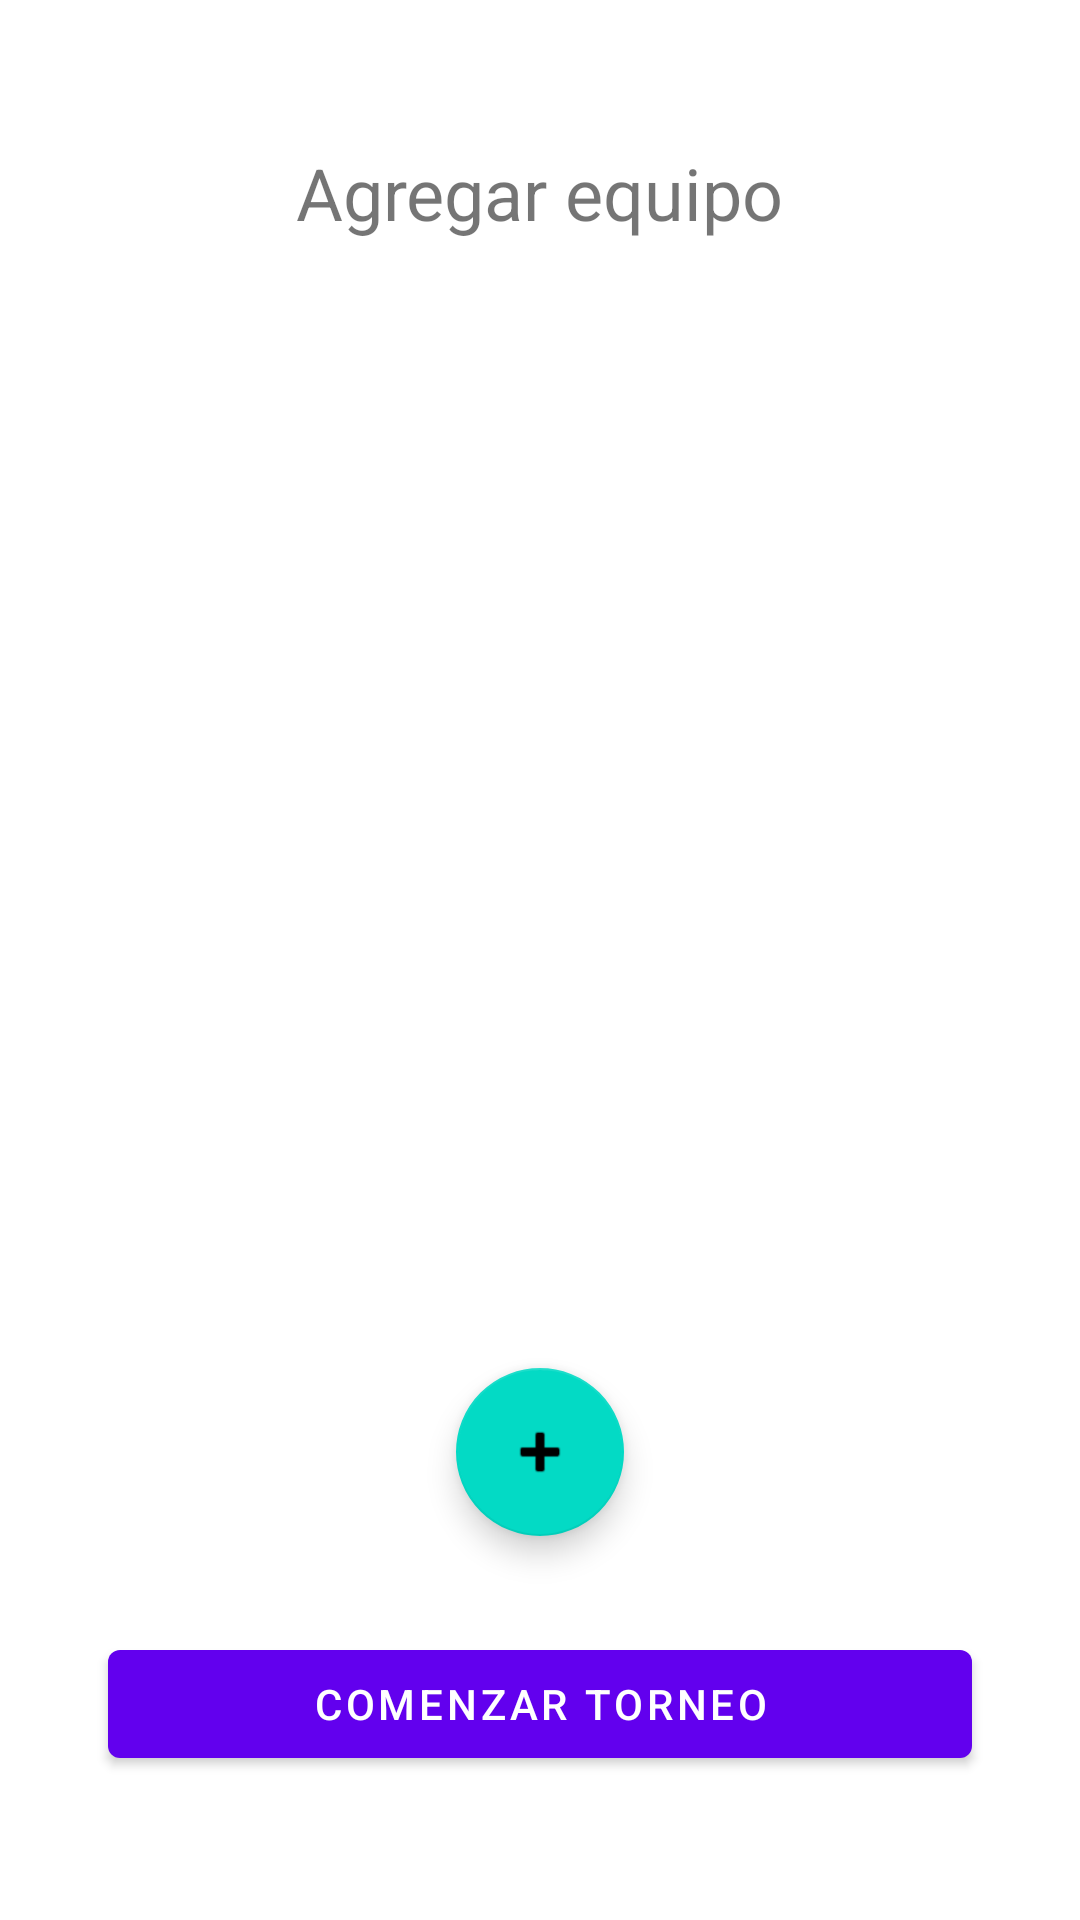

Icons on this 1080*1920 Android screen, each with the point to tap as [x,y]:
add: [540,1452]
